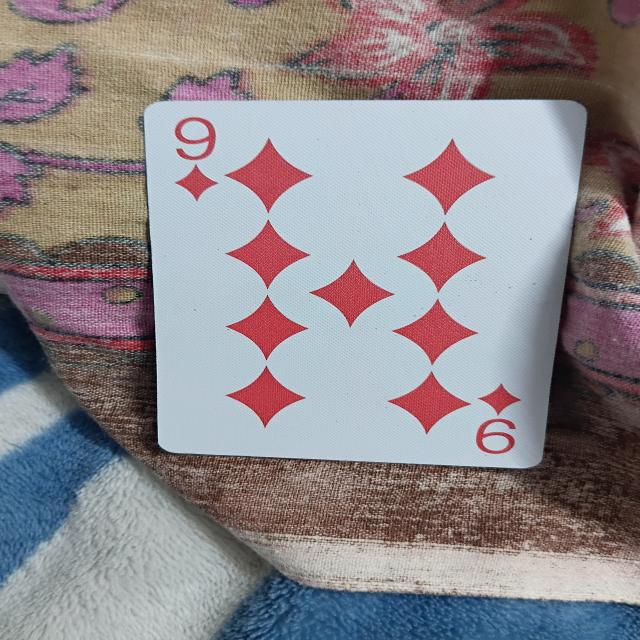9D: (148, 105, 549, 444)
